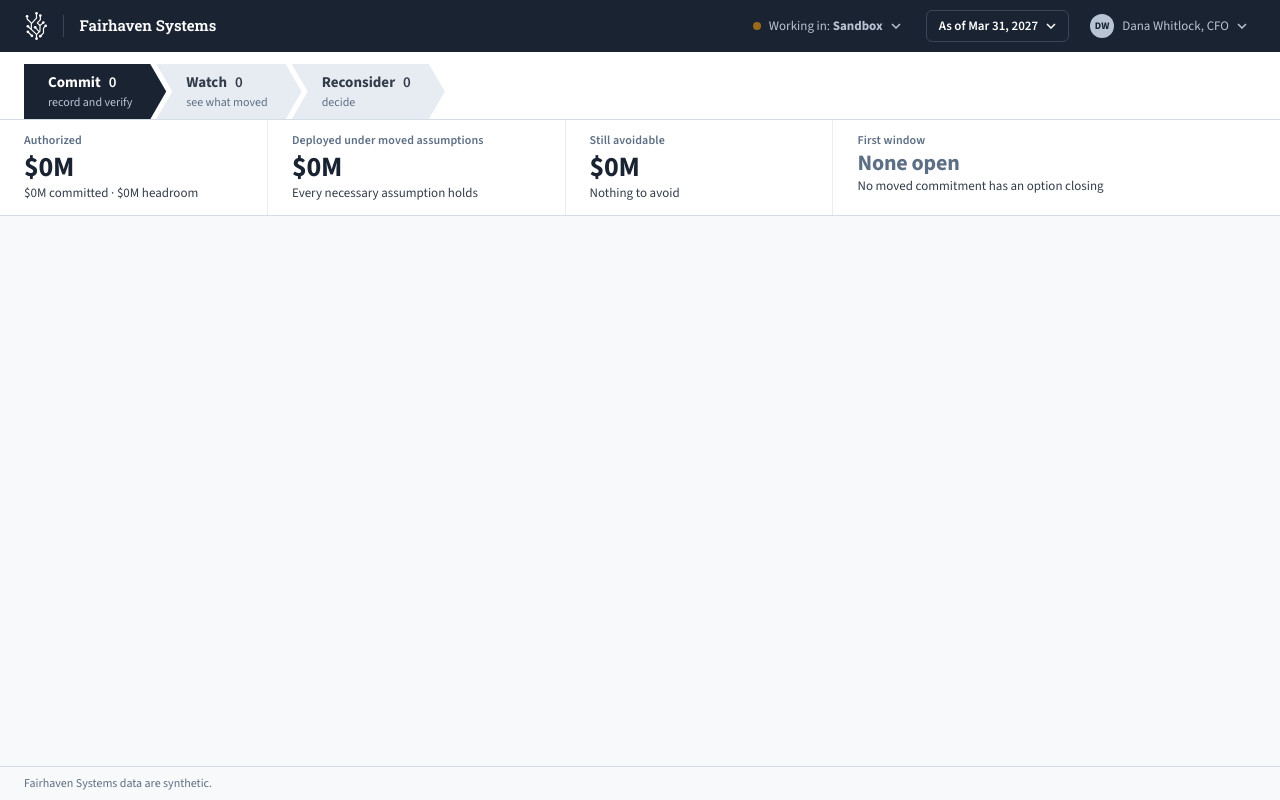
Test: the user menu lists every demo, and opens another at its own clock
Click the button "DW Dana Whitlock, CFO". click: click(1171, 26)
box: [1085, 10, 1256, 42]
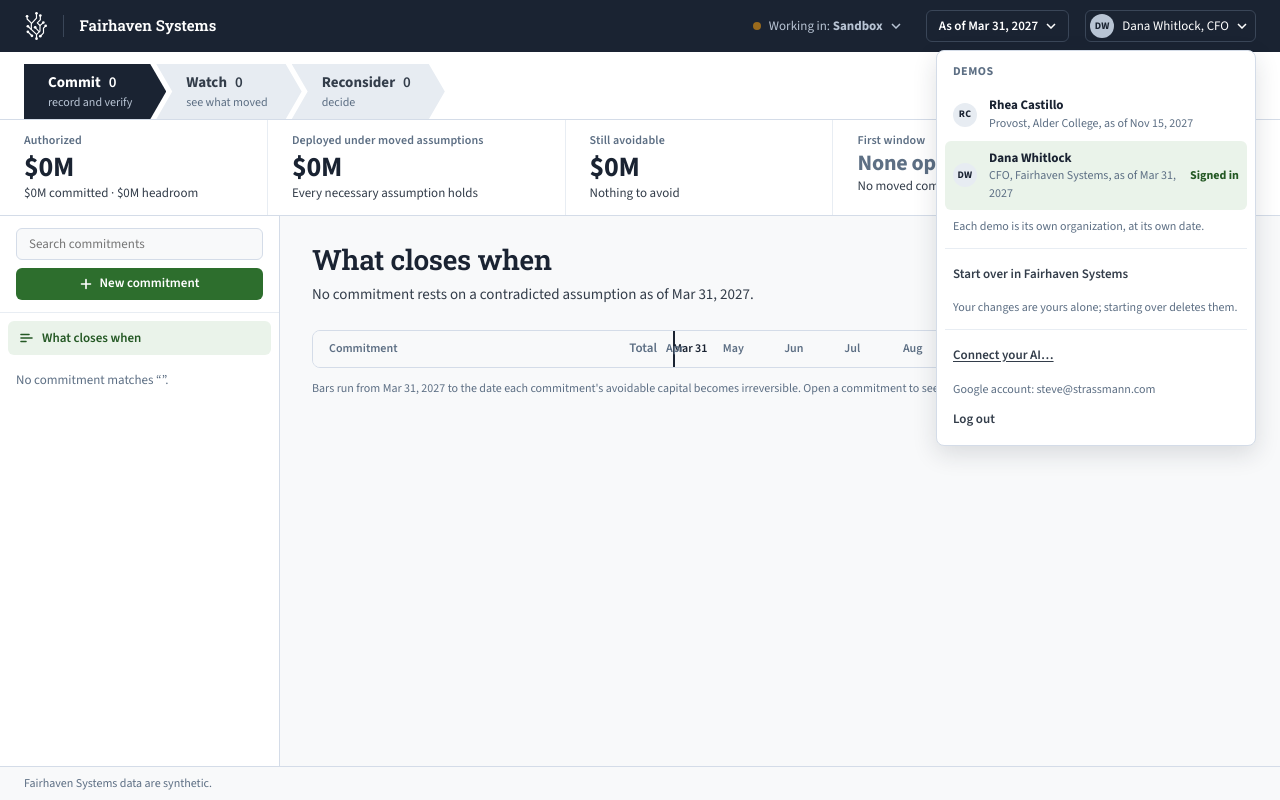
Result: the buttons "as of" read "RCRhea CastilloProvost, Alder College, as of Nov 15, 2027", "DWDana WhitlockCFO, Fairhaven Systems, as of Mar 31, 2027Signed in", in this order
Result: the text "Google account: steve@strassmann.com" is shown at [953, 381, 1155, 398]
Click the button "RC Rhea Castillo Provost, Alder College, as of Nov 15, 2027". click: click(1096, 114)
box: [945, 88, 1247, 141]
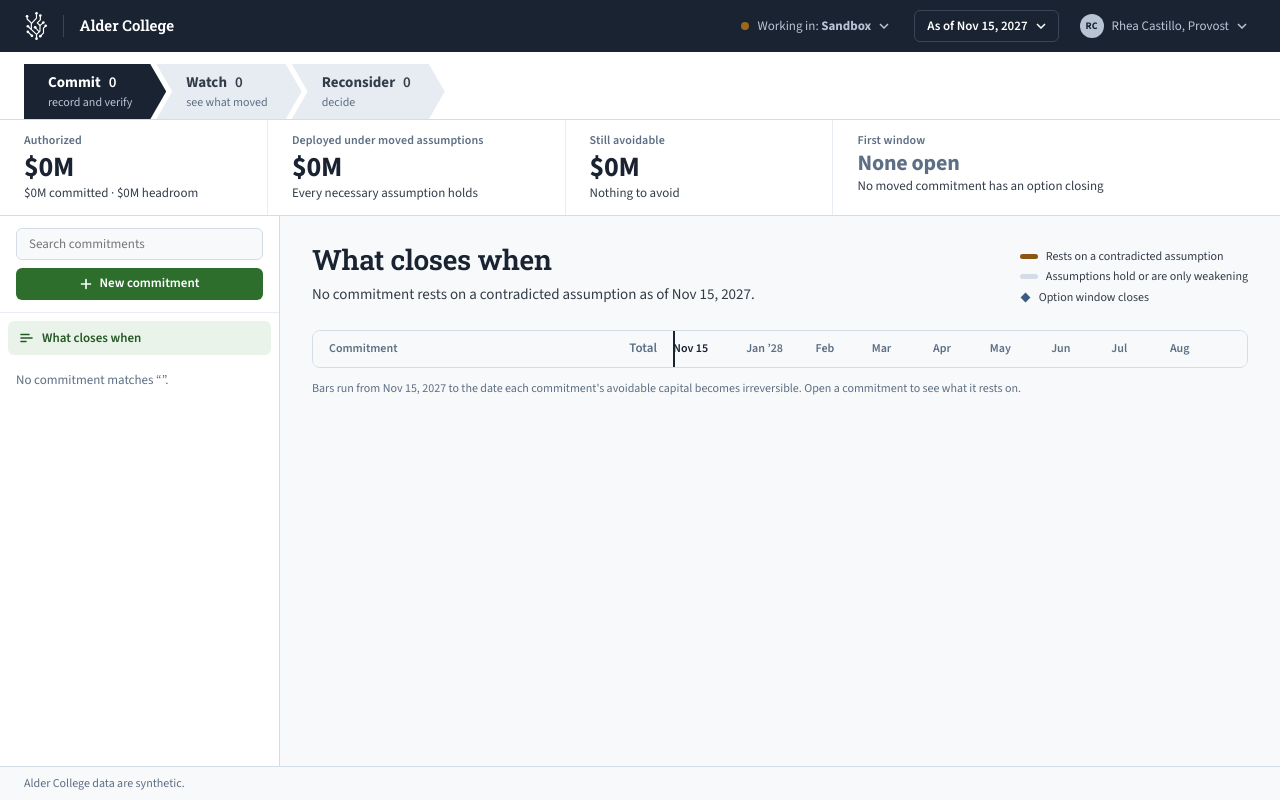
Result: the text "Alder College" is shown at [62, 15, 174, 37]
